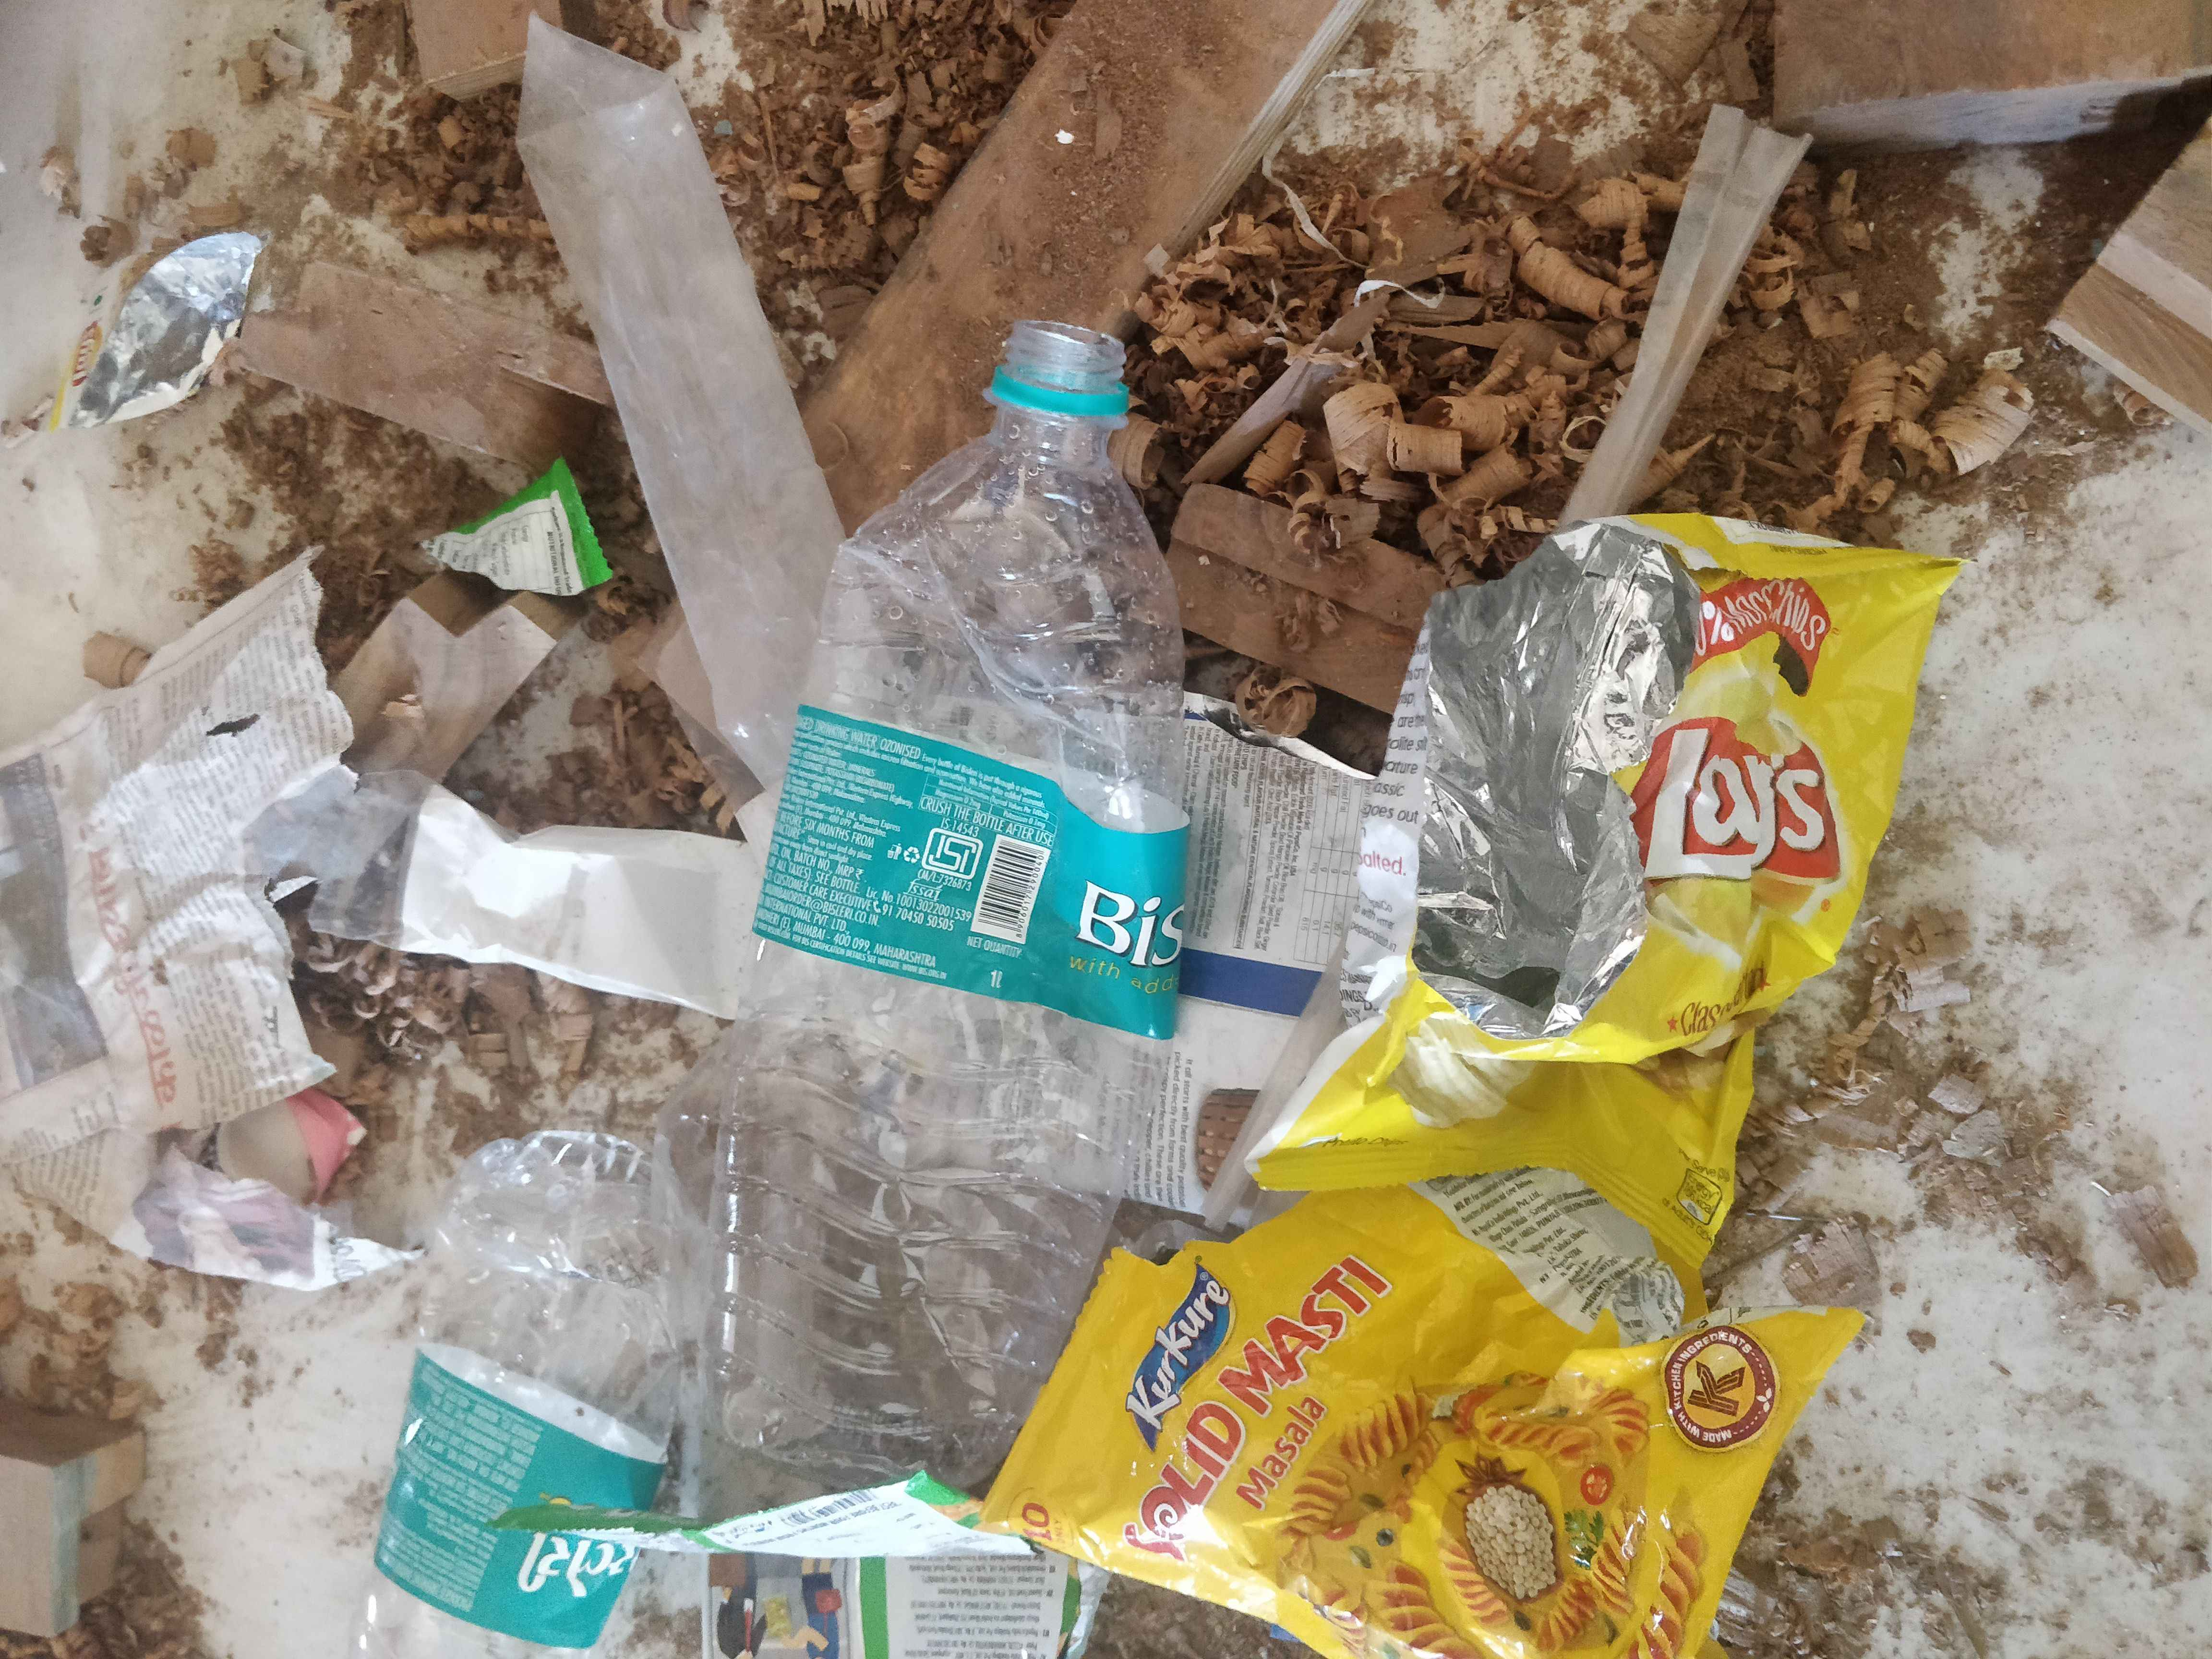Bisleri: (935, 821, 1209, 985), (439, 1464, 683, 1607)
Lays: (1566, 659, 1879, 896)
kurkure: (1106, 1244, 1240, 1455)
